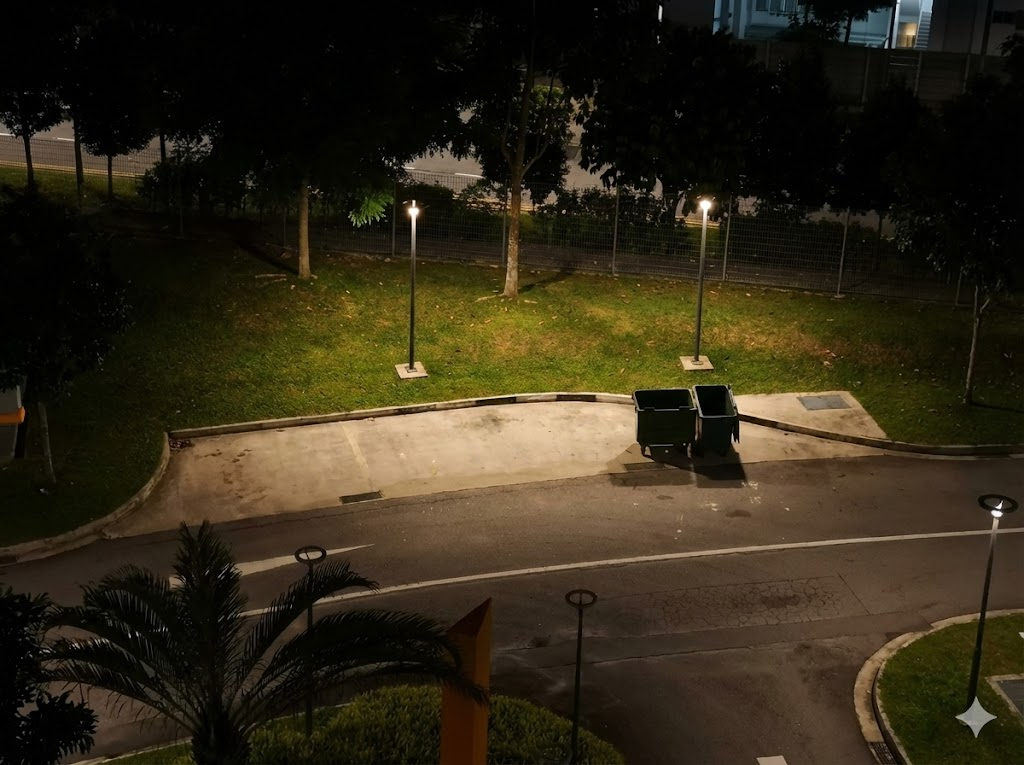bin_empty: (633, 389, 695, 452), (694, 385, 738, 455)
